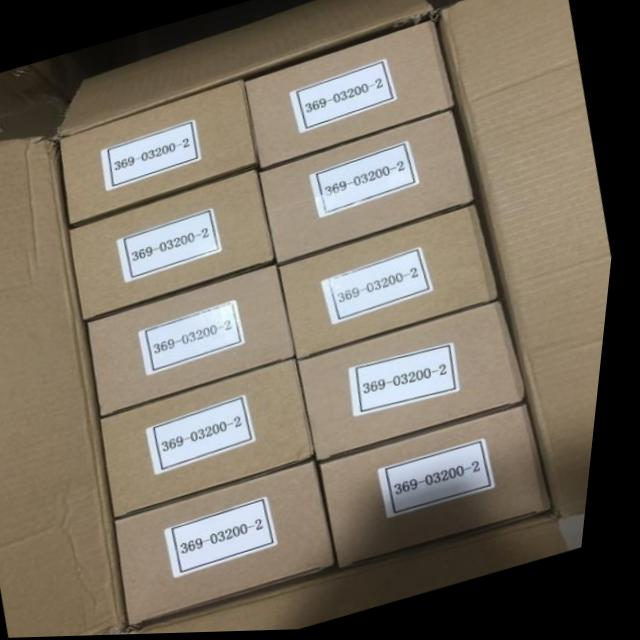box: (325, 405, 564, 572), (304, 302, 536, 466), (126, 462, 345, 625), (283, 205, 506, 363), (106, 360, 323, 521), (260, 111, 480, 266), (92, 264, 303, 417), (73, 170, 279, 323), (244, 22, 458, 168), (59, 80, 261, 229)
